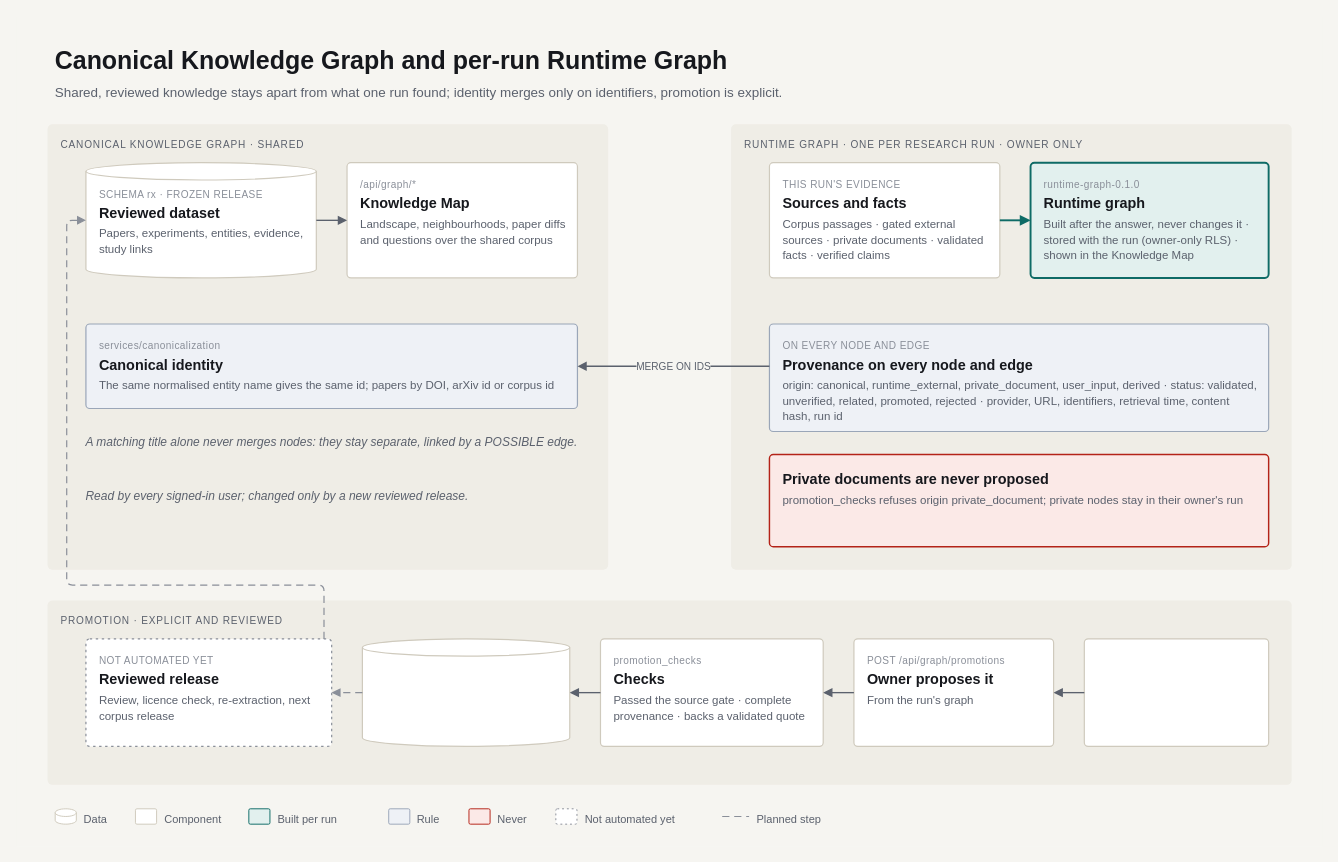
The diagram is 1338 pixels wide and 862 high, and some of its shapes have lost their labels. Here are the shapes that lost their labels. From the top down, the centre of each, then its label:
point 465,692: rx.runtime_sources CANDIDATE No user linkage
point 1176,692: RUNTIME_EXTERNAL External source A paper or source found in a run
